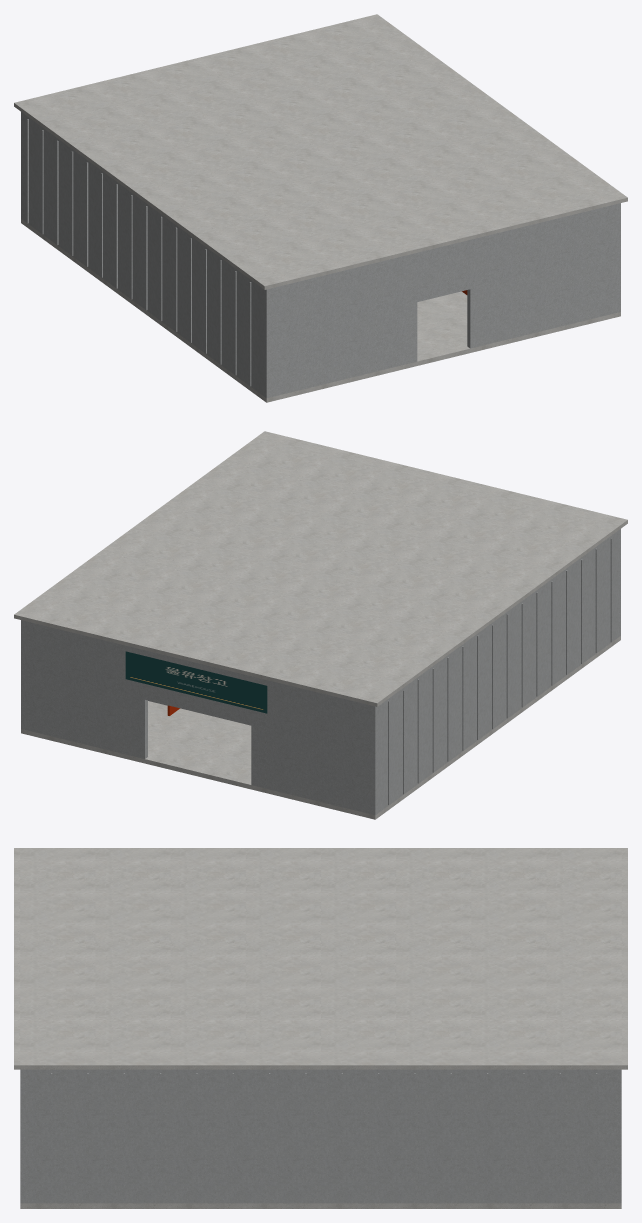
The model's file is warehouse.obj.
3 renders of one model, top to bottom at view 1: azimuth 30°, elevation 25°; view 2: azimuth 150°, elevation 25°; view 3: azimuth 270°, elevation 25°, orthographic. The views are drawn at different scales.
Parts seen in each view (by area): view 1: Concrete, Industrial_Blue, Interior_Floor, Roof_Metal; view 2: Concrete, Industrial_Blue, Interior_Floor, Sign_Atlas, Roof_Metal; view 3: Concrete, Industrial_Blue, Roof_Metal, Interior_Floor.
Part boxes in pixels (x1=…): Concrete: x1=14, y1=14, x2=627, y2=289; Industrial_Blue: x1=21, y1=112, x2=620, y2=398; Interior_Floor: x1=21, y1=219, x2=620, y2=402; Roof_Metal: x1=27, y1=119, x2=251, y2=386; Concrete: x1=14, y1=431, x2=627, y2=706; Industrial_Blue: x1=21, y1=529, x2=620, y2=815; Interior_Floor: x1=21, y1=636, x2=620, y2=819; Sign_Atlas: x1=125, y1=651, x2=267, y2=713; Roof_Metal: x1=388, y1=538, x2=612, y2=804; Concrete: x1=14, y1=848, x2=627, y2=1069; Industrial_Blue: x1=20, y1=1069, x2=621, y2=1203; Roof_Metal: x1=51, y1=1073, x2=597, y2=1200; Interior_Floor: x1=20, y1=1203, x2=621, y2=1208.
Size of the model in its own units: 20.5 by 6.44 by 24.5.
